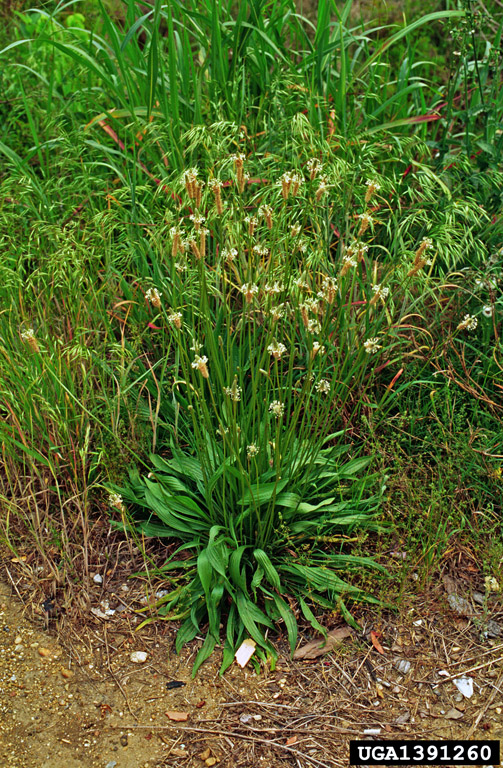buckhorn plantain: (82, 124, 370, 606)
